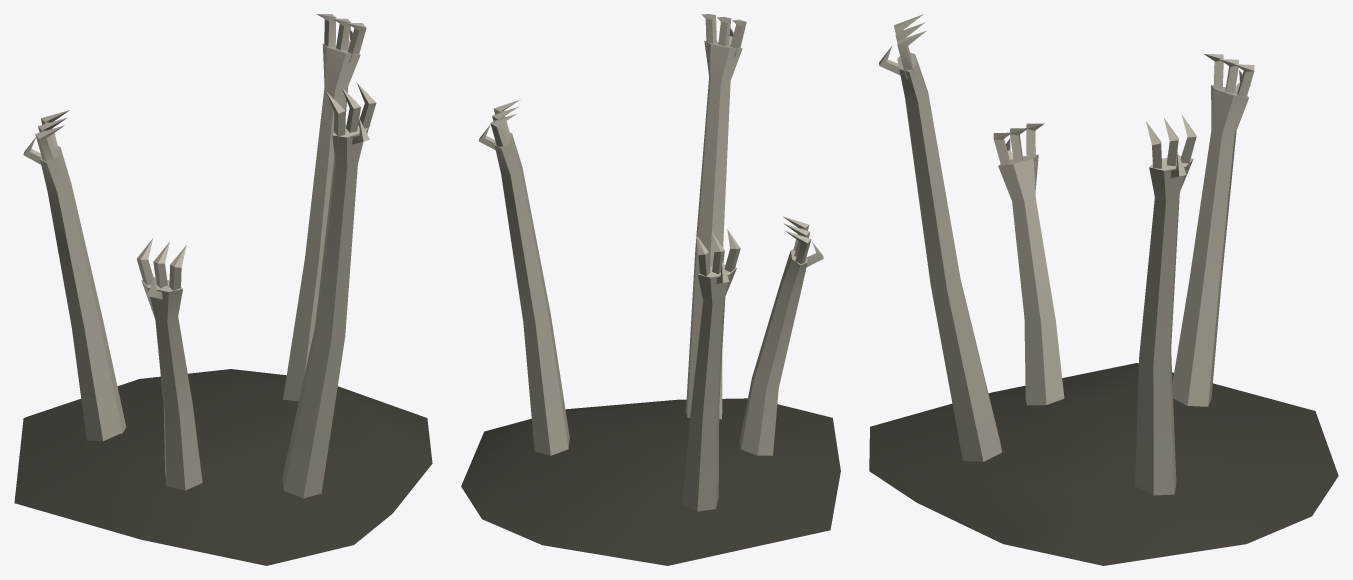
Rendered from GraspingHands.fbx.
3 renders of one model, left to right at view 1: azimuth 30°, elevation 25°; view 2: azimuth 150°, elevation 25°; view 3: azimuth 270°, elevation 25°, orthographic. The views are drawn at different scales.
Visible parts, largest first — view 1: GraspingHands; view 2: GraspingHands; view 3: GraspingHands.
Part boxes in pixels (left/top/right/bottom): GraspingHands: left=14, top=14, right=432, bottom=565; GraspingHands: left=461, top=14, right=840, bottom=565; GraspingHands: left=869, top=14, right=1338, bottom=565.
Bounding box in the file's own units: 0.9831 × 1.08 × 0.9601.
